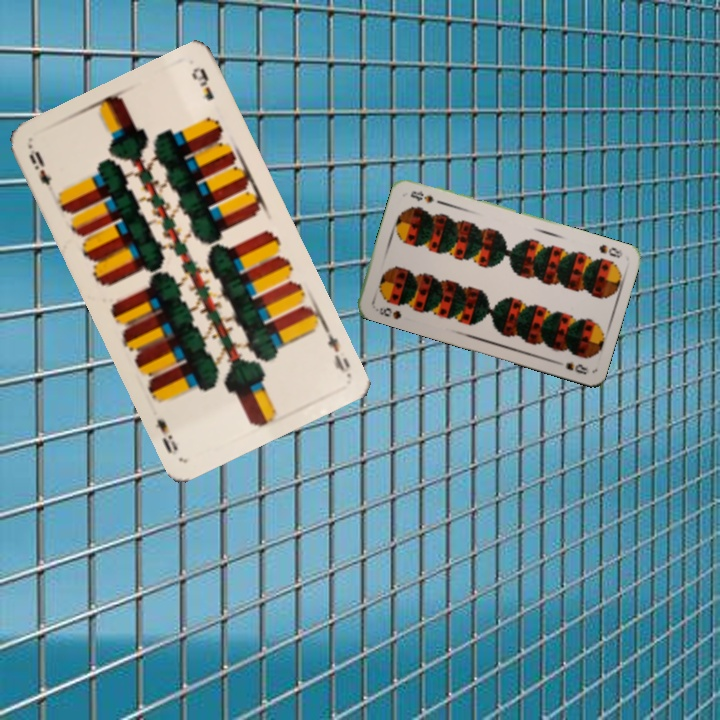E9: (320, 322, 353, 378), (24, 143, 54, 188)
S8: (371, 303, 404, 322), (595, 240, 625, 260)
